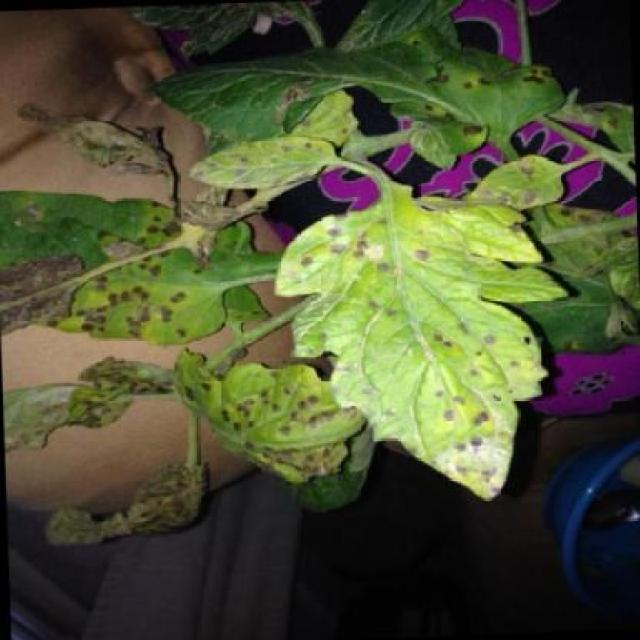Septoria leaf spot: (277, 186, 574, 518), (147, 33, 600, 167), (153, 344, 386, 490), (50, 243, 241, 352), (154, 135, 351, 206), (471, 156, 580, 218)
